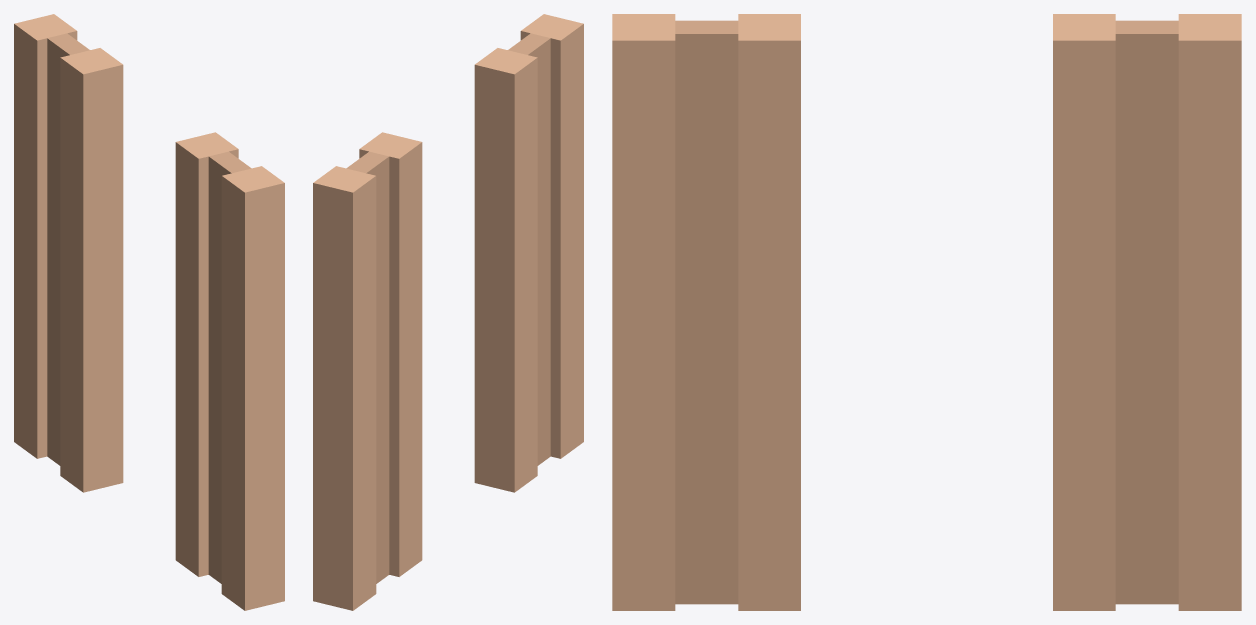
File: wallWoodDoorwayBase.glb
3 renders of one model, left to right at view 1: azimuth 30°, elevation 25°; view 2: azimuth 150°, elevation 25°; view 3: azimuth 270°, elevation 25°, orthographic. The views are drawn at different scales.
Visible parts, largest first — view 1: wallWoodDoorwayBase; view 2: wallWoodDoorwayBase; view 3: wallWoodDoorwayBase.
Part boxes in pixels (left/top/right/bottom): wallWoodDoorwayBase: left=14, top=14, right=284, bottom=610; wallWoodDoorwayBase: left=313, top=14, right=583, bottom=610; wallWoodDoorwayBase: left=612, top=14, right=1241, bottom=610.
Size of the model in its own units: 0.1 by 1 by 1.
